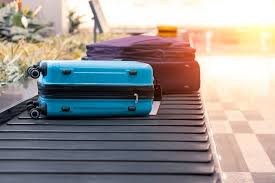suitcase: (25, 58, 162, 124), (83, 38, 203, 94)
